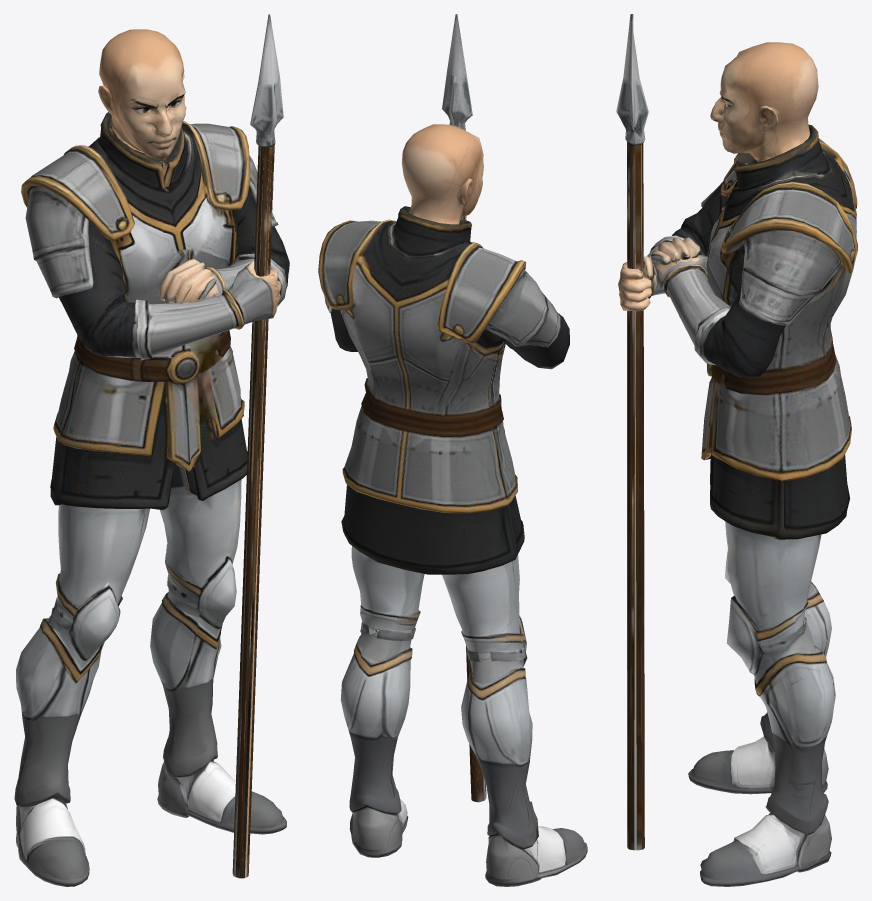
File: fante.glb
3 views of the same model, side by side, from view 1: azimuth 30°, elevation 25°; view 2: azimuth 150°, elevation 25°; view 3: azimuth 270°, elevation 25° (orthographic). The views are drawn at different scales.
Bounding box in the file's own units: 0.3022 × 0.9526 × 0.2466.
Materials: 1 (1 with a texture image).
